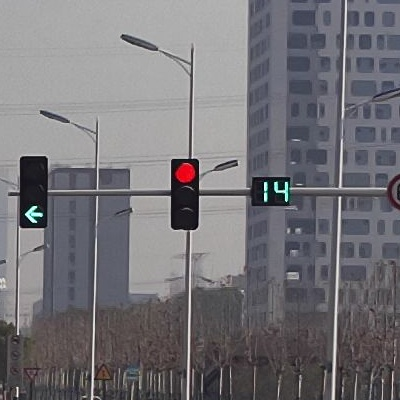green_arrow_left: (21, 155, 45, 228)
red_circle: (173, 159, 195, 231)
